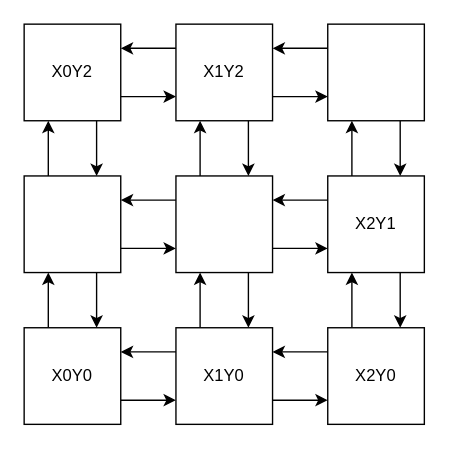
Some shapes in this 449 by 449 pixel diagram are drawn without their labels. Each missing label, with the centre of its shape:
"X0Y1" belongs at (x=72, y=224).
"X1Y1" belongs at (x=224, y=224).
"X2Y2" belongs at (x=375, y=72).
